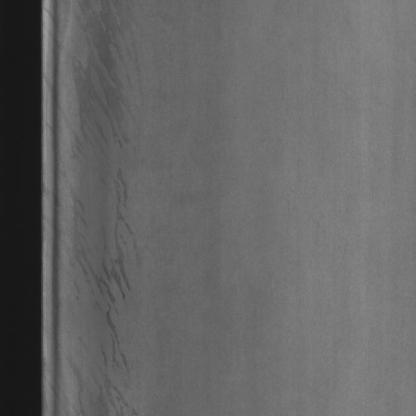water_spot: (72, 8, 156, 403)
